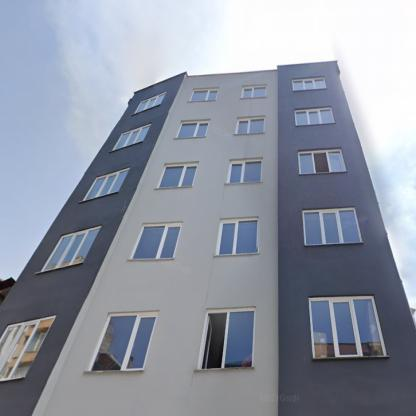window: (310, 296, 385, 357), (88, 314, 158, 370), (0, 316, 55, 380), (198, 308, 254, 368), (41, 227, 101, 271), (304, 208, 360, 245), (132, 225, 180, 258), (83, 168, 130, 200), (218, 220, 258, 254), (299, 149, 345, 174), (112, 124, 150, 151), (158, 166, 197, 188), (228, 160, 262, 183), (295, 108, 334, 125), (135, 92, 166, 113), (177, 121, 209, 138), (292, 78, 326, 90), (236, 118, 264, 132), (190, 90, 218, 101), (243, 86, 266, 97)
